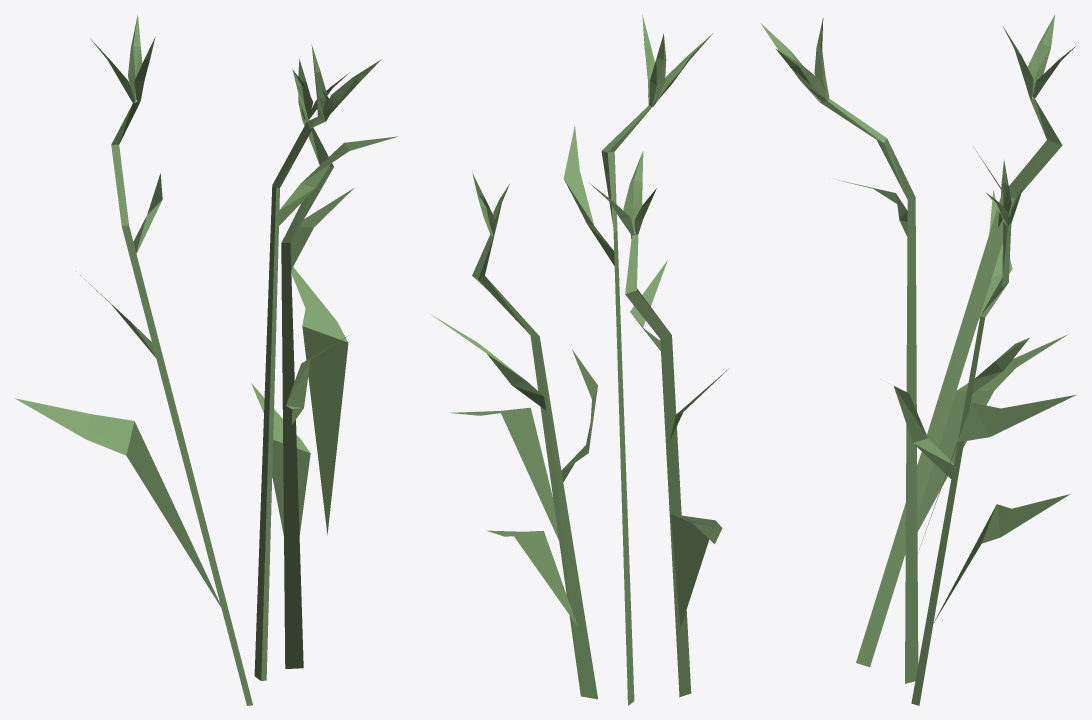
Rendered from Wheat_3.fbx.
3 views of the same model, side by side, from view 1: azimuth 30°, elevation 25°; view 2: azimuth 150°, elevation 25°; view 3: azimuth 270°, elevation 25° (orthographic). The views are drawn at different scales.
Visible parts, largest first — view 1: Wheat_3; view 2: Wheat_3; view 3: Wheat_3.
Boxes of the visible parts, <box> form: Wheat_3: <box>15,14,398,705</box>; Wheat_3: <box>430,15,728,705</box>; Wheat_3: <box>761,15,1076,705</box>.
Size of the model in its own units: 78.75 by 157 by 67.27.
